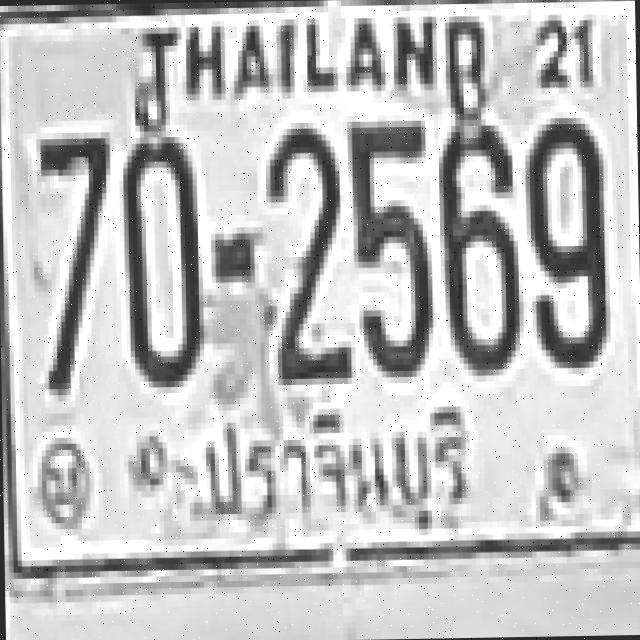0: (118, 130, 200, 382)
2: (264, 118, 348, 382)
5: (346, 115, 428, 372)
6: (433, 119, 515, 370)
7: (36, 132, 109, 389)
9: (524, 111, 606, 362)
PrachinBuri: (194, 399, 482, 542)
